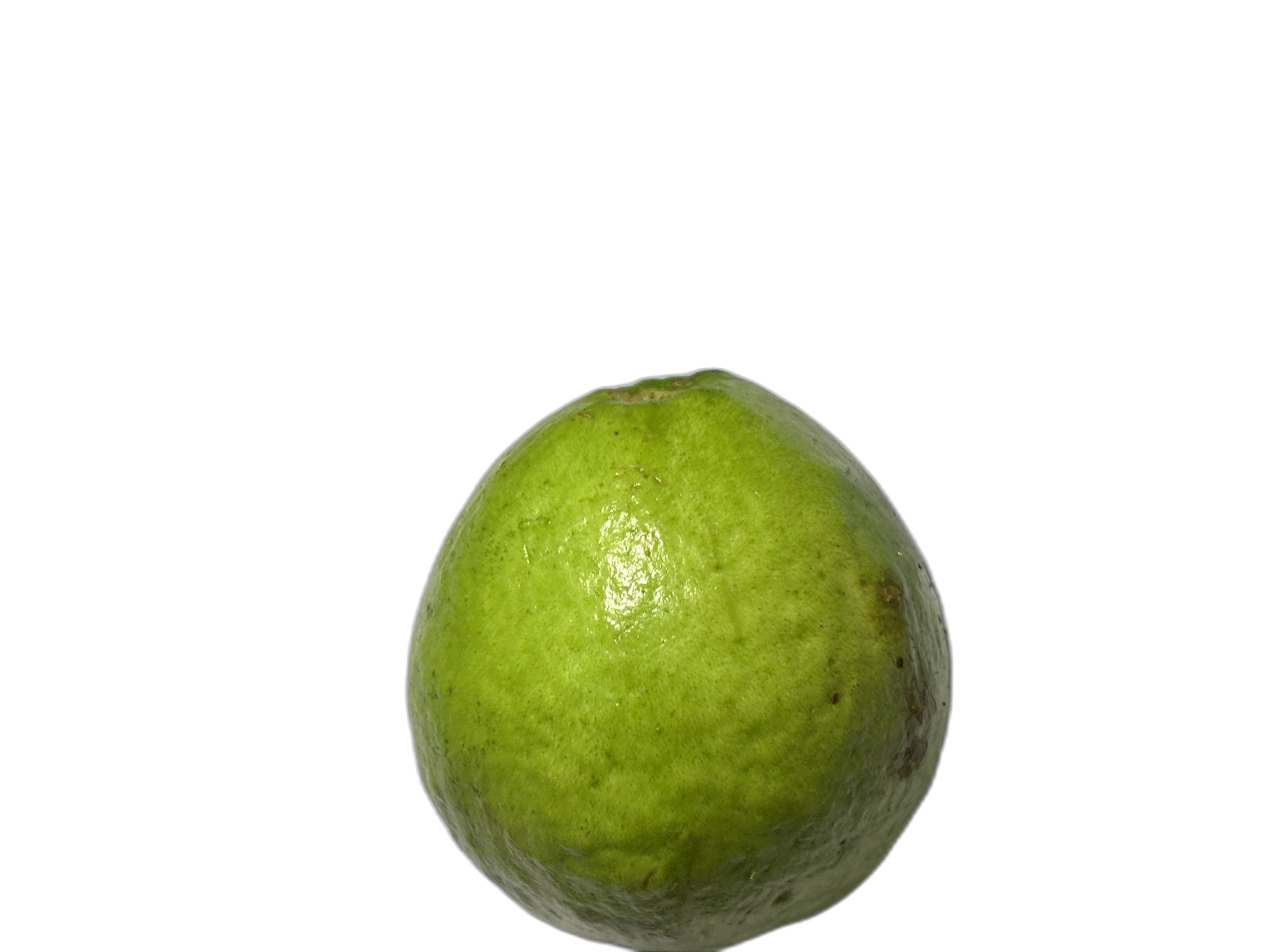guava: (75, 239, 1081, 877)
